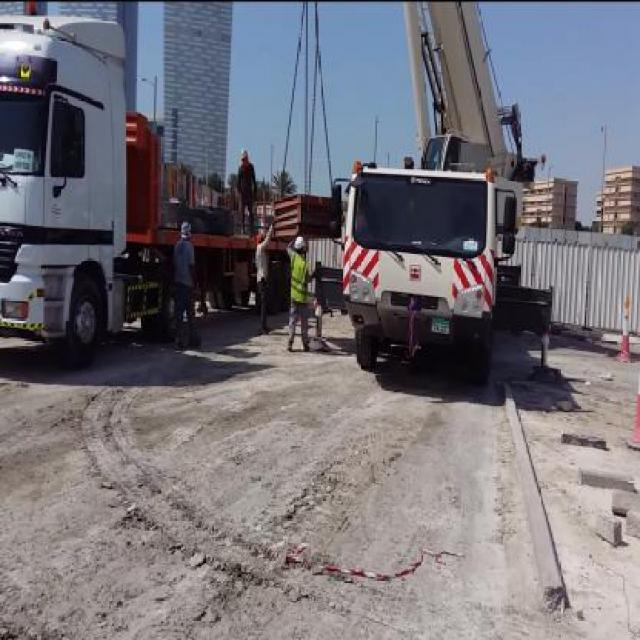Mobile Crane: (310, 0, 568, 391)
